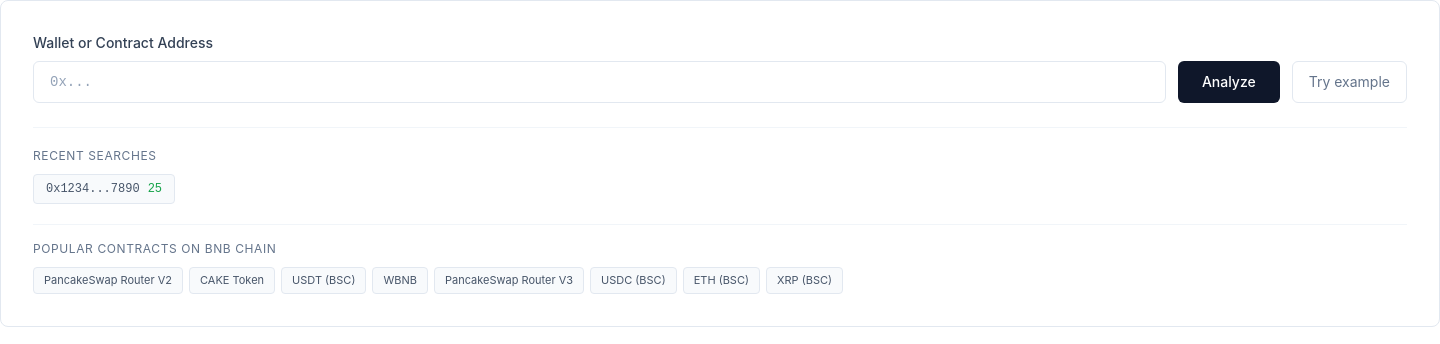
it: RiskAnalyzer Component › Search History › should populate input when history item is clicked
The width and height of the screenshot is (1440, 344).
Click the button titled "score: 25" at (104, 189), box [33, 174, 175, 204]
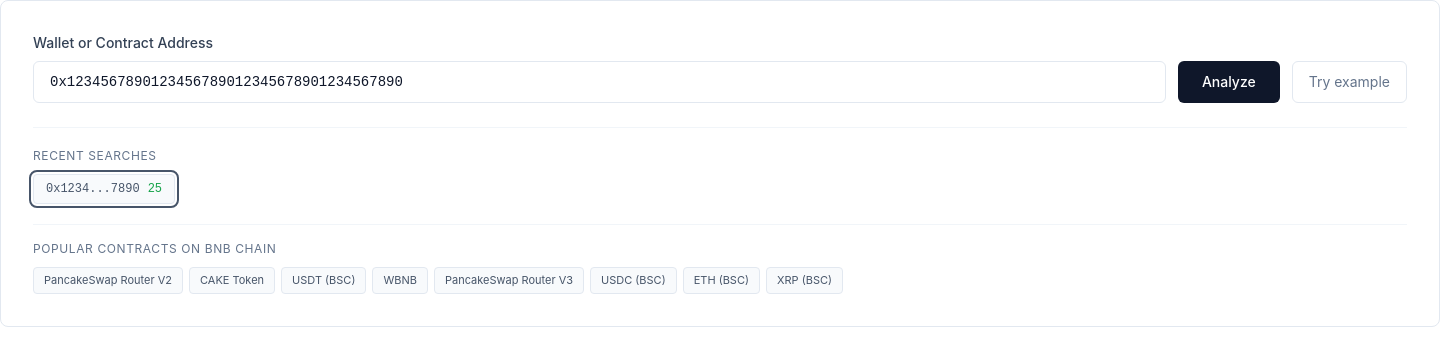
Expected: the field with placeholder "0x..." holds "0x1234567890123456789012345678901234567890", [33, 61, 1166, 103]
